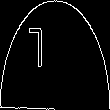L_S: (47, 29, 63, 81)
